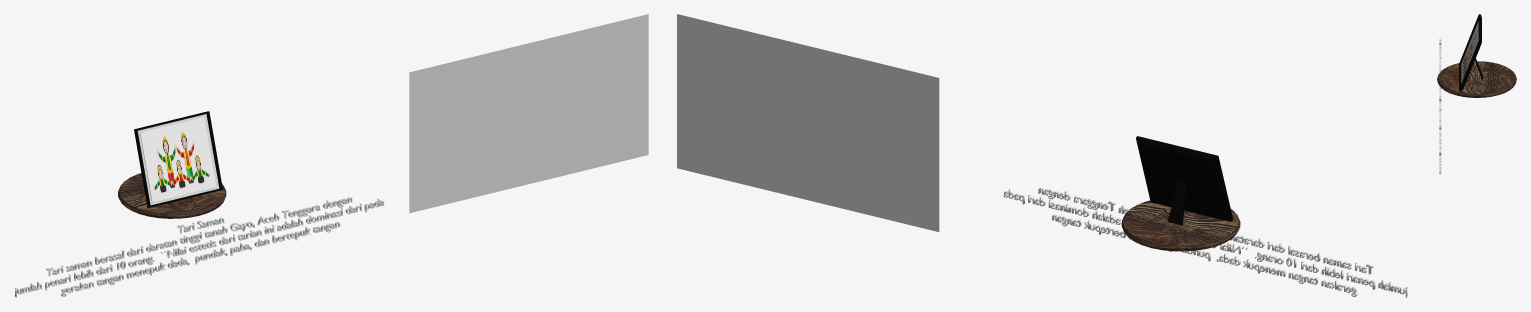
File: 1. Tari Saman (Aceh).fbx
3 renders of one model, left to right at view 1: azimuth 30°, elevation 25°; view 2: azimuth 150°, elevation 25°; view 3: azimuth 270°, elevation 25°, orthographic. The views are drawn at different scales.
Visible parts, largest first — view 1: Plane, Cube.003, Text; view 2: Plane, Cube.003, Text; view 3: Cube.003, Text.
Boxes of the visible parts, left/top/right/bottom form: Plane: left=409, top=14, right=648, bottom=213; Cube.003: left=118, top=111, right=226, bottom=218; Text: left=14, top=197, right=384, bottom=297; Plane: left=677, top=14, right=939, bottom=231; Cube.003: left=1121, top=136, right=1240, bottom=251; Text: left=1003, top=187, right=1408, bottom=297; Cube.003: left=1437, top=14, right=1516, bottom=97; Text: left=1439, top=38, right=1441, bottom=174.
Size of the model in its own units: 8696 by 1806 by 1260.
Materials: 6 (3 with a texture image).
